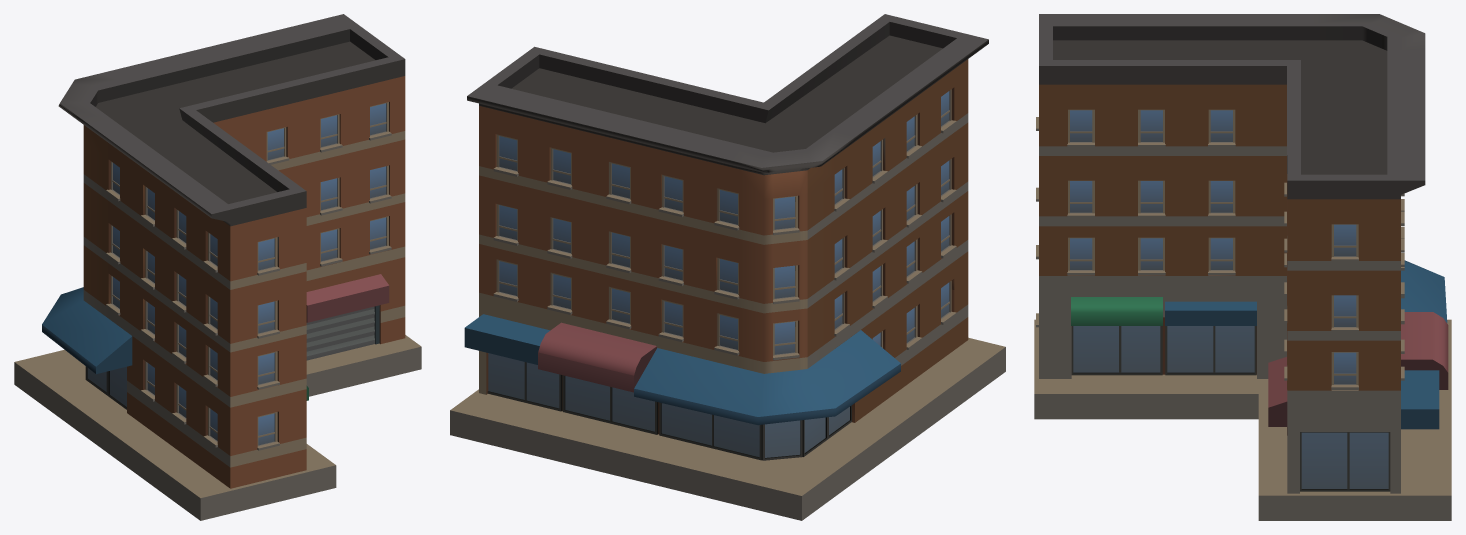
The model's file is buildings-business-commercialbuilding_v3.glb.
The picture shows the model from 3 angles, left to right: view 1: azimuth 30°, elevation 25°; view 2: azimuth 150°, elevation 25°; view 3: azimuth 270°, elevation 25°; orthographic projection. The views are drawn at different scales.
Visible parts, largest first — view 1: CommercialBuilding_v3_base, CommercialBuilding_v3_windowRefl, CommercialBuilding_v3_color; view 2: CommercialBuilding_v3_base, CommercialBuilding_v3_windowRefl, CommercialBuilding_v3_color; view 3: CommercialBuilding_v3_base, CommercialBuilding_v3_windowRefl, CommercialBuilding_v3_color.
Part boxes in pixels (x1,y1,x2,y2): CommercialBuilding_v3_base: (14,14,421,520); CommercialBuilding_v3_windowRefl: (87,103,386,445); CommercialBuilding_v3_color: (42,274,389,400); CommercialBuilding_v3_base: (450,14,1005,520); CommercialBuilding_v3_windowRefl: (488,91,949,457); CommercialBuilding_v3_color: (464,314,900,425); CommercialBuilding_v3_base: (1034,14,1451,520); CommercialBuilding_v3_windowRefl: (1070,110,1388,488); CommercialBuilding_v3_color: (1071,260,1448,429).
Bounding box in the file's own units: 23.61 × 20.92 × 23.39.
